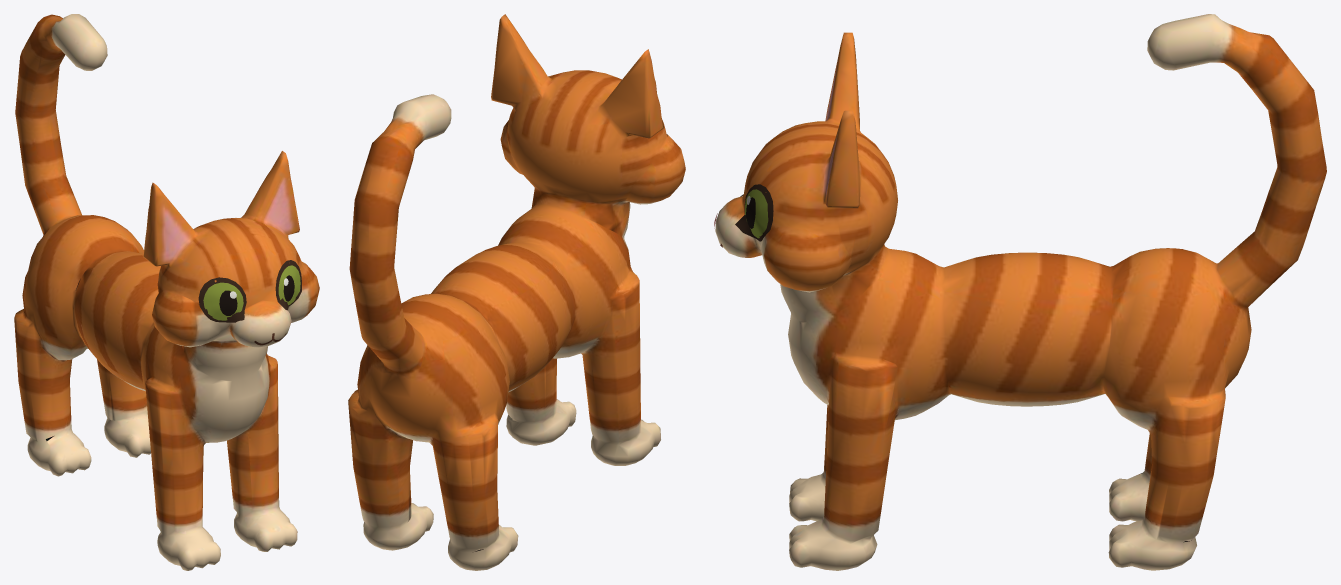
The model's file is cat-stand-cc.glb.
The picture shows the model from 3 angles, left to right: view 1: azimuth 30°, elevation 25°; view 2: azimuth 150°, elevation 25°; view 3: azimuth 270°, elevation 25°; orthographic projection. The views are drawn at different scales.
Parts seen in each view (by area): view 1: cat-stand-cc; view 2: cat-stand-cc; view 3: cat-stand-cc.
Boxes of the visible parts, x1,y1,x2,y2 form: cat-stand-cc: (14,14,319,570); cat-stand-cc: (348,14,685,570); cat-stand-cc: (714,14,1326,570).
Bounding box in the file's own units: 0.24 × 0.6142 × 0.6511.
Materials: 7 (1 with a texture image).
